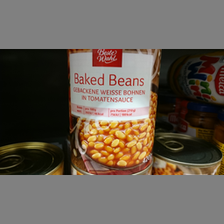beans: (66, 48, 161, 174)
